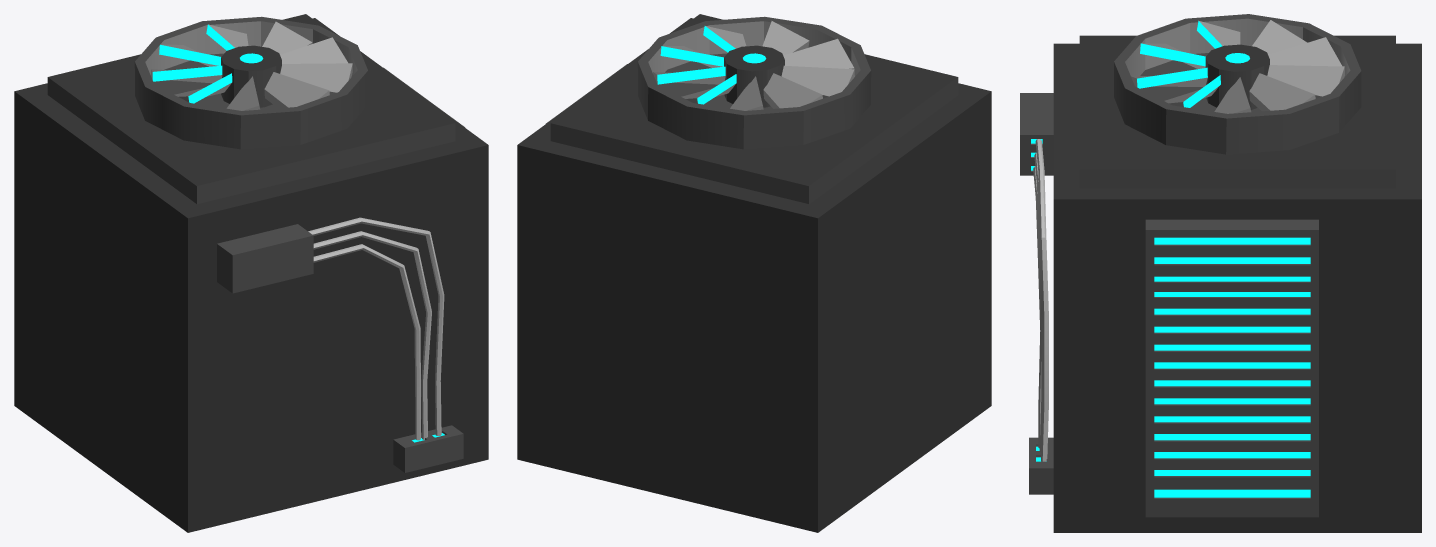
File: SM_Prop_B.fbx
3 renders of one model, left to right at view 1: azimuth 30°, elevation 25°; view 2: azimuth 150°, elevation 25°; view 3: azimuth 270°, elevation 25°, orthographic. The views are drawn at different scales.
Visible parts, largest first — view 1: SM_Prop_B; view 2: SM_Prop_B; view 3: SM_Prop_B.
Boxes of the visible parts, bbox=[...] form: SM_Prop_B: bbox=[14, 14, 488, 532]; SM_Prop_B: bbox=[517, 14, 991, 532]; SM_Prop_B: bbox=[1020, 14, 1421, 532].
Bounding box in the file's own units: 68.66 × 76.56 × 70.2.
